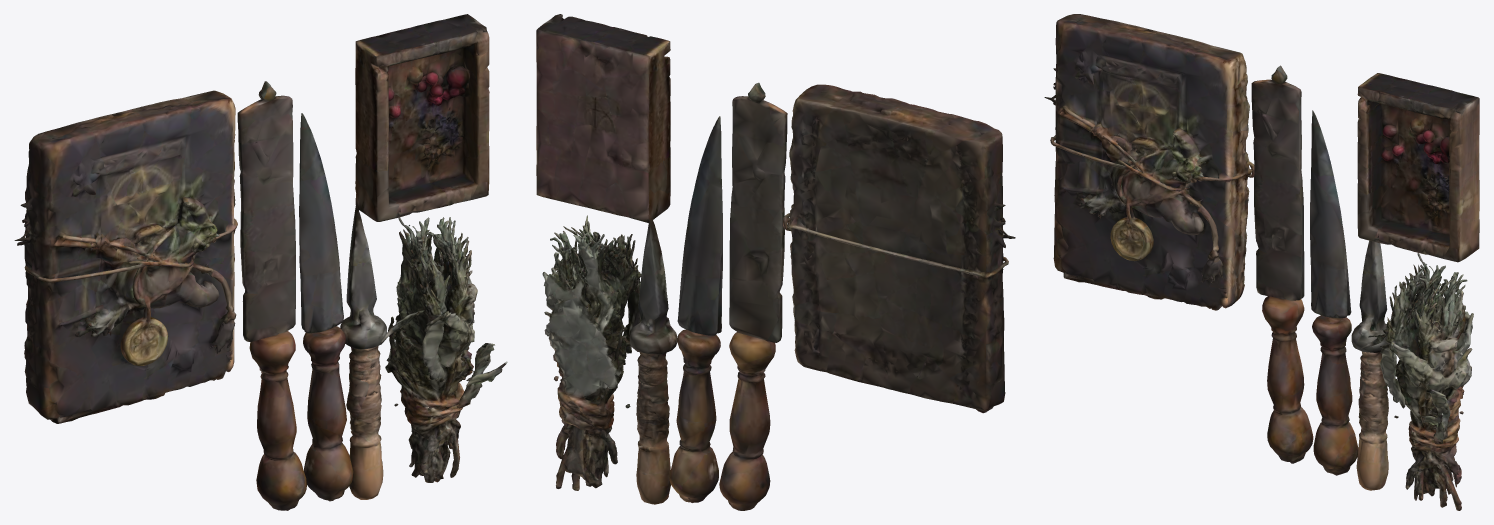
Rendered from witchcraft-alchemy.glb.
3 views of the same model, side by side, from view 1: azimuth 30°, elevation 25°; view 2: azimuth 150°, elevation 25°; view 3: azimuth 330°, elevation 25° (orthographic). The views are drawn at different scales.
Bounding box in the file's own units: 1.89 × 1.78 × 0.3258.
Materials: 1 (1 with a texture image).
